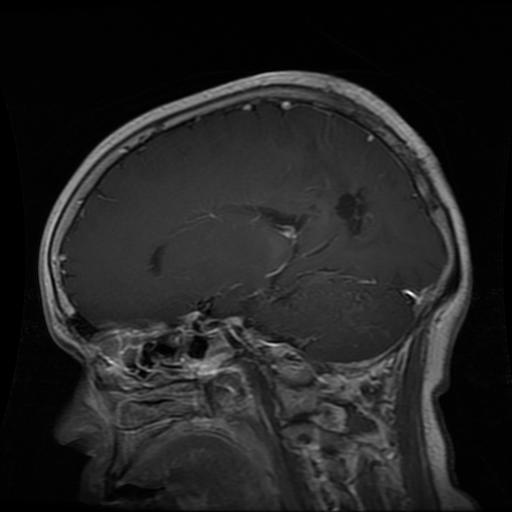Gliomia_tumour: (331, 184, 377, 244)
